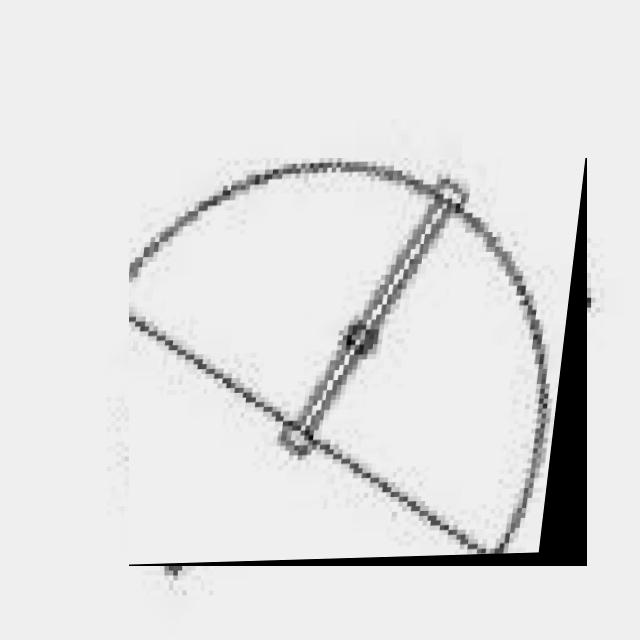door: (129, 158, 587, 566)
